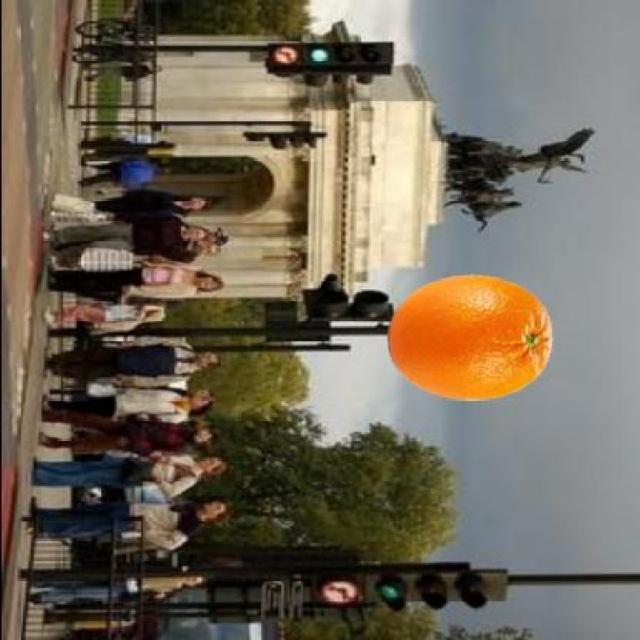Orange: (386, 270, 552, 402)
